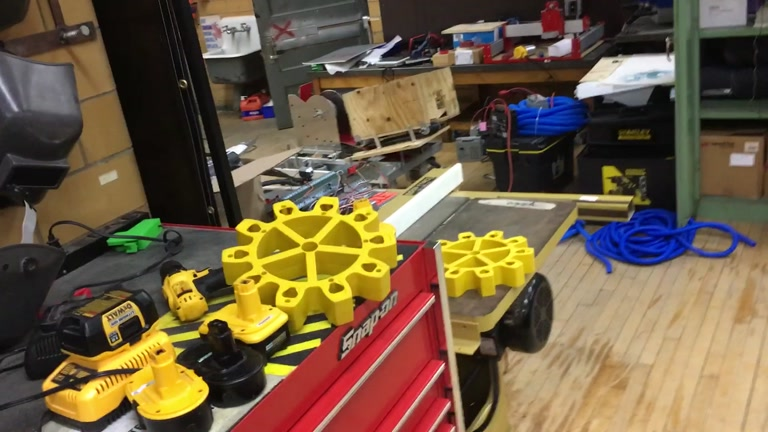gear: (219, 195, 397, 331), (424, 228, 535, 299)
